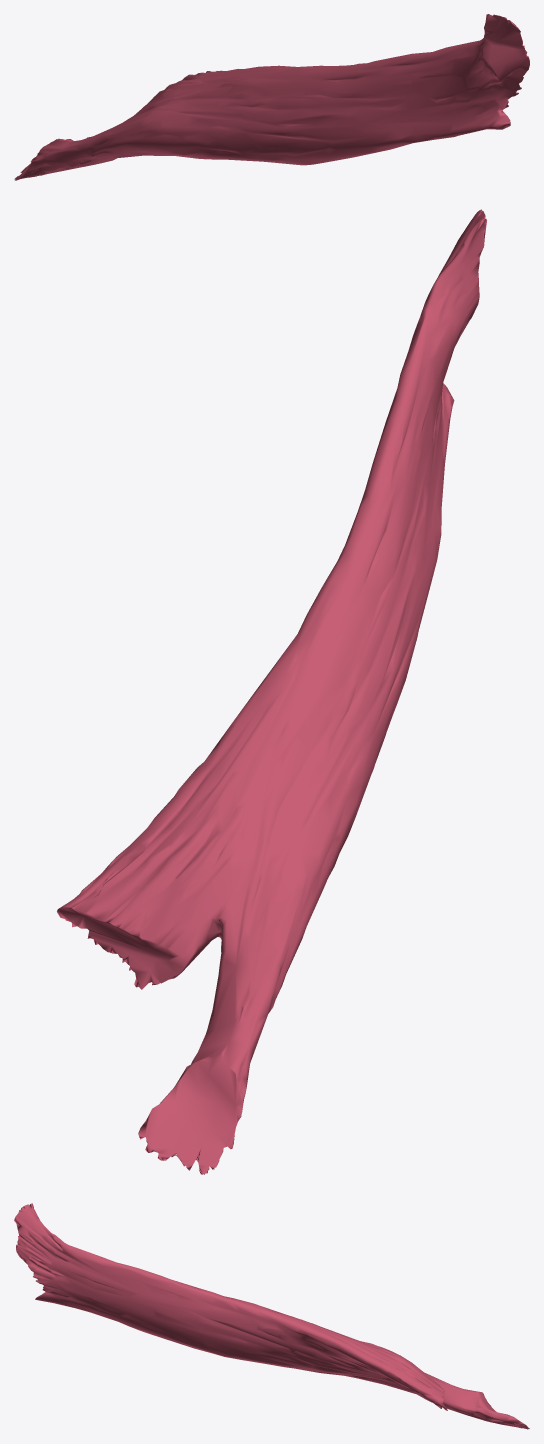
3 renders of one model, top to bottom at view 1: azimuth 30°, elevation 25°; view 2: azimuth 150°, elevation 25°; view 3: azimuth 270°, elevation 25°, orthographic. The views are drawn at different scales.
Visible parts, largest first — view 1: 左侧胸锁乳突肌; view 2: 左侧胸锁乳突肌; view 3: 左侧胸锁乳突肌.
Part boxes in pixels (x1,y1,x2,y2): 左侧胸锁乳突肌: (14, 14, 529, 180); 左侧胸锁乳突肌: (57, 209, 486, 1174); 左侧胸锁乳突肌: (14, 1203, 529, 1429).
Bounding box in the file's own units: 0.0851 × 0.1675 × 0.2854.
